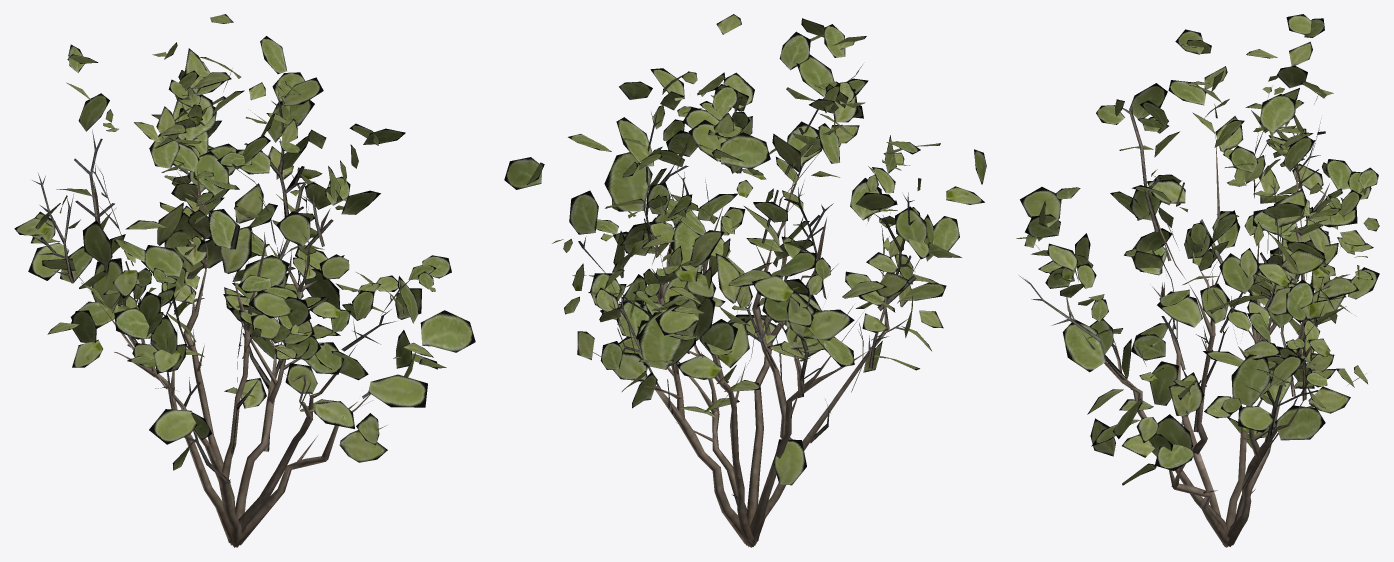
Rendered from arbuste_searsia_d_lod1.glb.
3 renders of one model, left to right at view 1: azimuth 30°, elevation 25°; view 2: azimuth 150°, elevation 25°; view 3: azimuth 270°, elevation 25°, orthographic. The views are drawn at different scales.
Visible parts, largest first — view 1: searsia_lucida_d_LOD0; view 2: searsia_lucida_d_LOD0; view 3: searsia_lucida_d_LOD0.
Part boxes in pixels (left/top/right/bottom): searsia_lucida_d_LOD0: left=14, top=14, right=475, bottom=547; searsia_lucida_d_LOD0: left=504, top=14, right=986, bottom=547; searsia_lucida_d_LOD0: left=1016, top=14, right=1379, bottom=547.
Size of the model in its own units: 1.06 by 1.32 by 0.8832.
2 materials, 2 textured.
